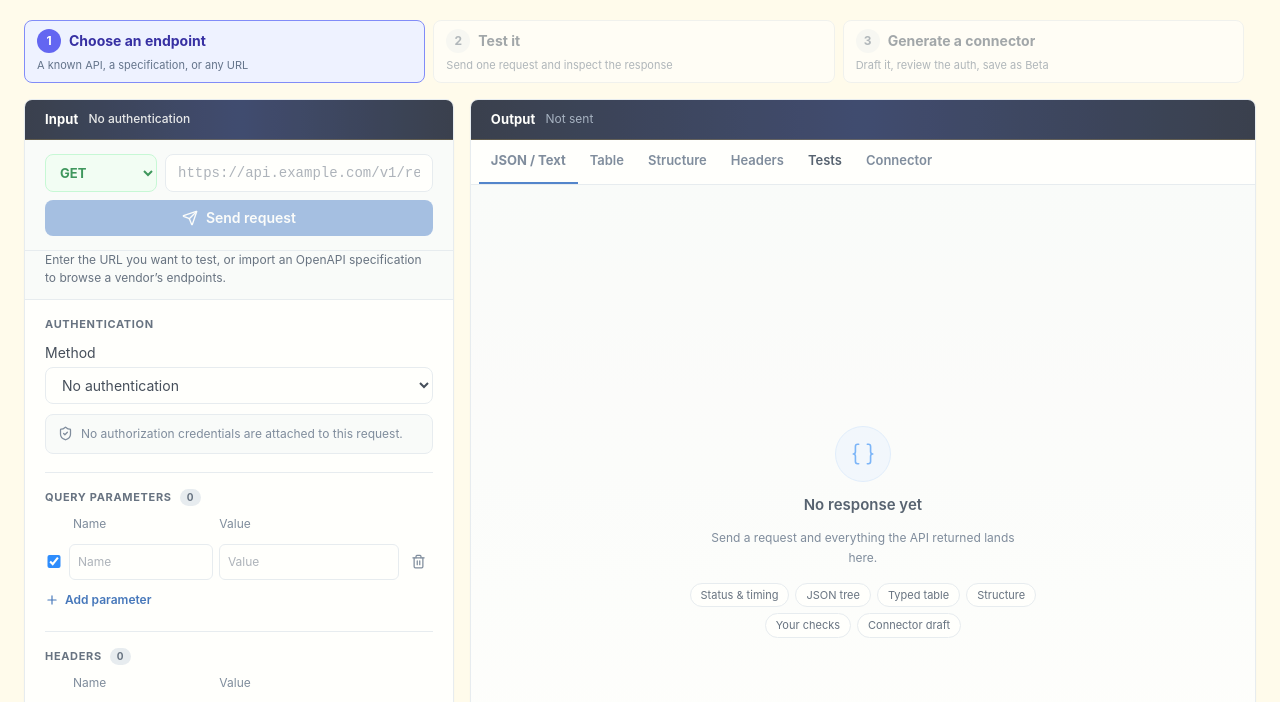
navigates to the connector step from the rail once a response exists
Type "https://example.com/records" into the field named "Request URL". click: {"x": 299, "y": 173}
box: x1=165 y1=154 x2=433 y2=192
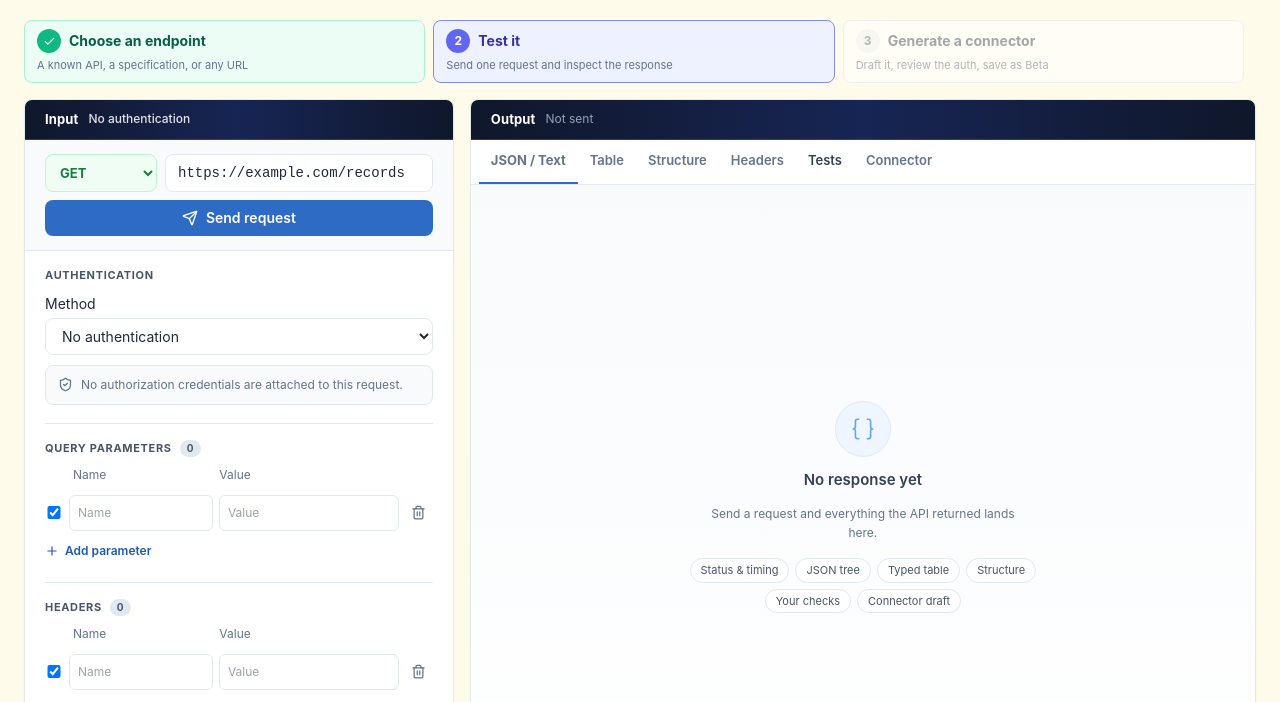
Click the button "Send request". click: {"x": 239, "y": 218}
box: x1=45 y1=200 x2=433 y2=236
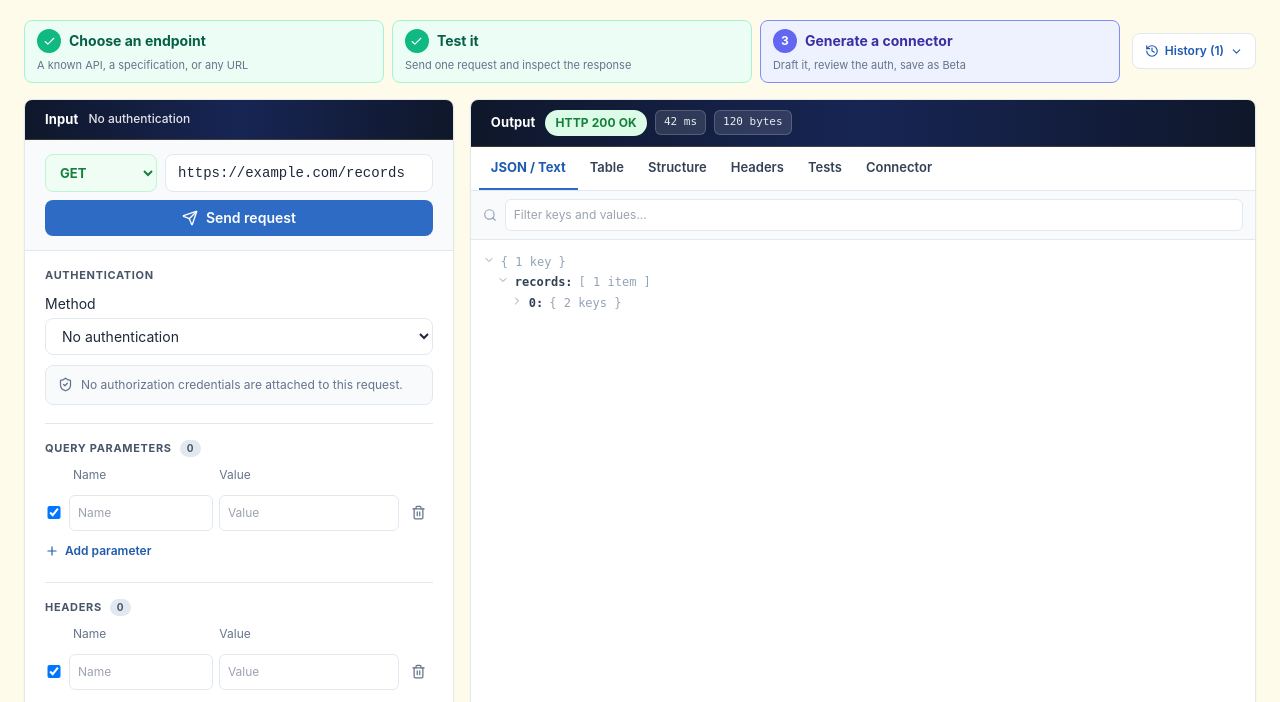
Result: the text "HTTP 200 OK" is shown at x1=546 y1=110 x2=647 y2=136
Result: the button "Generate a connector" is enabled
Click the button "Generate a connector". click: {"x": 940, "y": 51}
box: x1=760 y1=20 x2=1120 y2=82
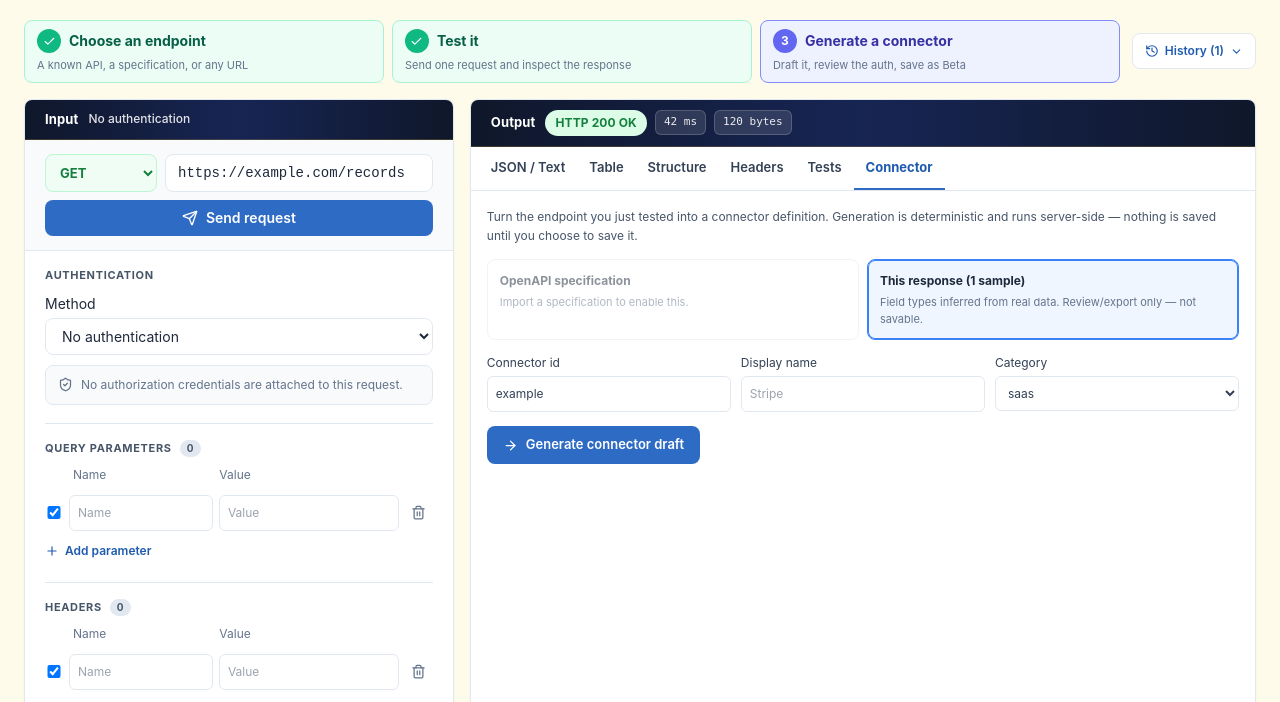
Result: the field labelled "Connector id" is shown at x1=487 y1=376 x2=731 y2=412
